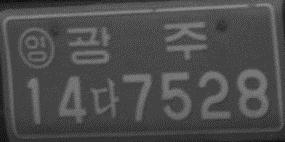1: (20, 76, 50, 125)
2: (197, 70, 232, 120)
4: (57, 75, 87, 124)
5: (160, 71, 192, 122)
7: (122, 73, 153, 123)
8: (235, 67, 270, 119)
광주_D: (66, 21, 208, 65)
다: (90, 76, 120, 119)
영: (15, 26, 54, 69)
